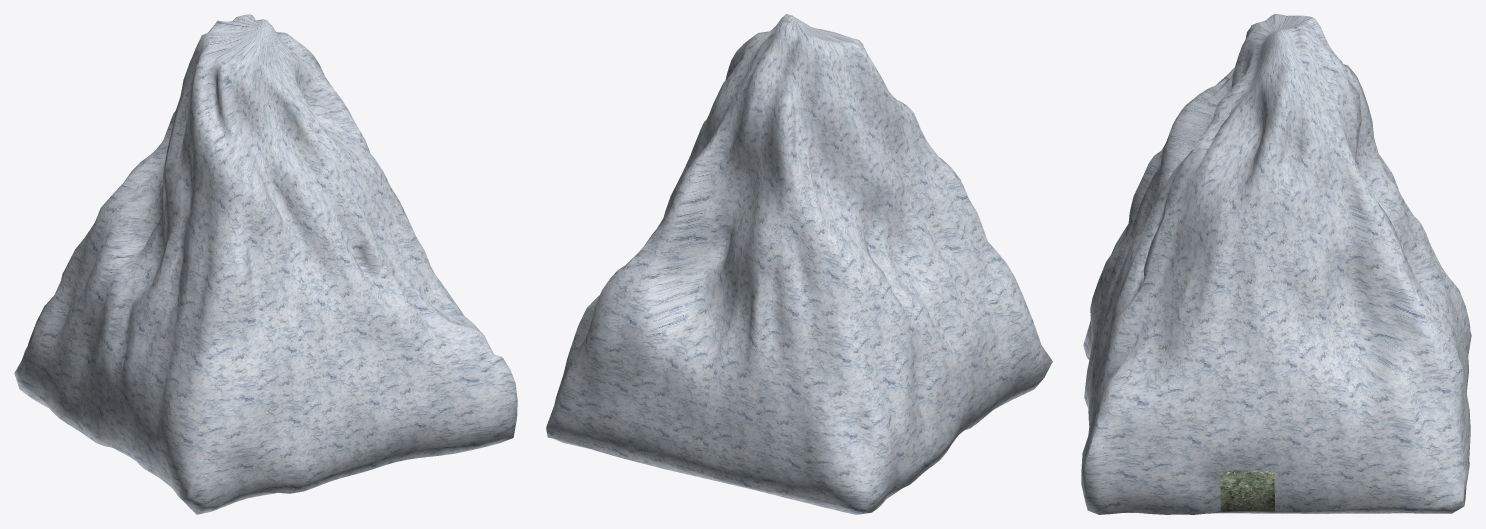
Rendered from cavern.fbx.
3 renders of one model, left to right at view 1: azimuth 30°, elevation 25°; view 2: azimuth 150°, elevation 25°; view 3: azimuth 270°, elevation 25°, orthographic. The views are drawn at different scales.
Visible parts, largest first — view 1: cavern; view 2: cavern; view 3: cavern.
Boxes of the visible parts, <box> form: cavern: <box>14,14,517,514</box>; cavern: <box>546,14,1052,514</box>; cavern: <box>1081,14,1471,514</box>.
Bounding box in the file's own units: 103 × 119 × 102.
Materials: 2 (2 with a texture image).
